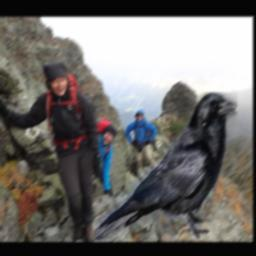Crow: (94, 92, 237, 240)
